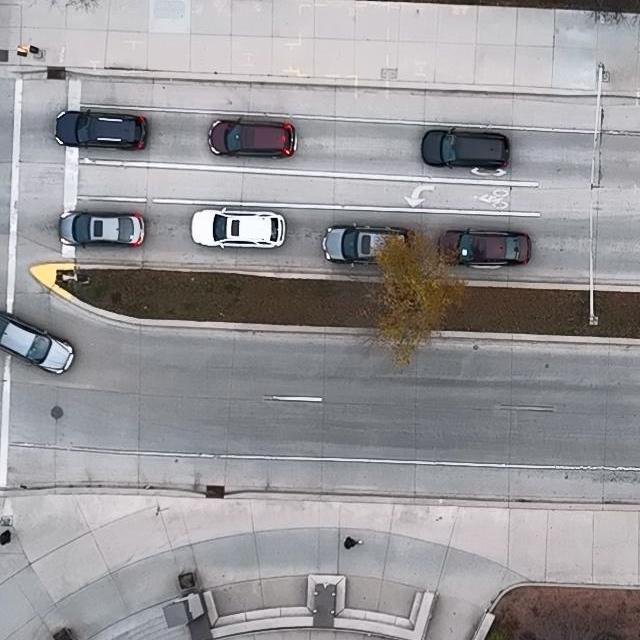car: (0, 311, 75, 376), (320, 222, 415, 267), (192, 207, 286, 251), (421, 126, 511, 171), (54, 108, 149, 149), (437, 227, 531, 268), (208, 119, 297, 159), (58, 211, 147, 249)
